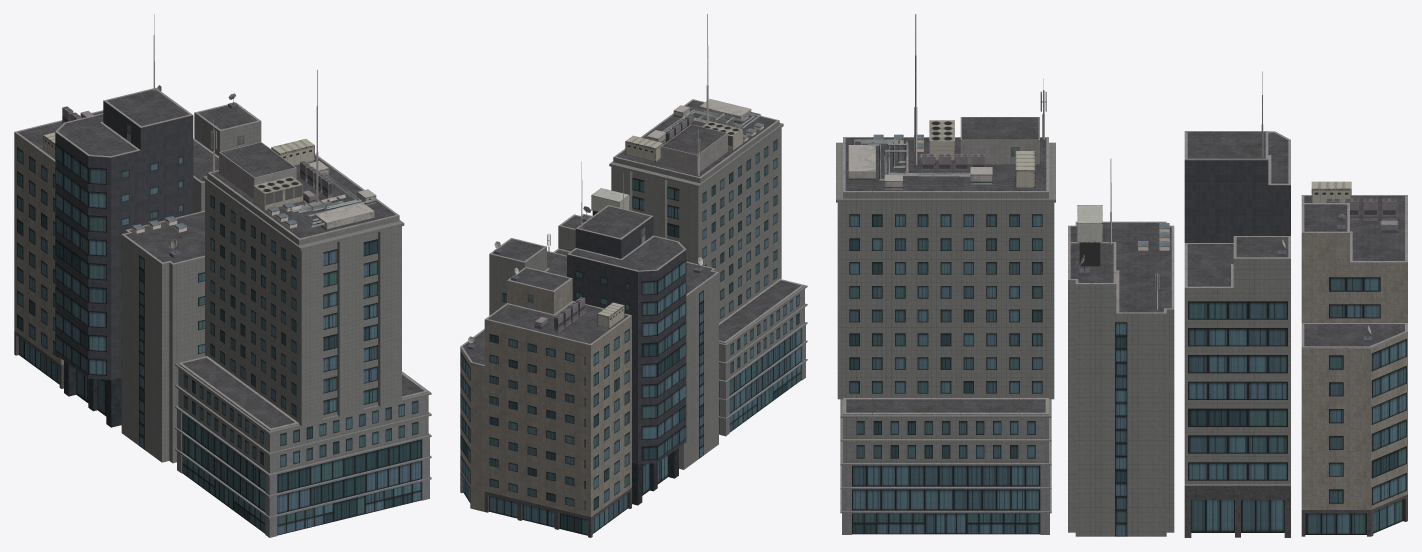
File: buildSetD.FBX
The picture shows the model from 3 angles, left to right: view 1: azimuth 30°, elevation 25°; view 2: azimuth 150°, elevation 25°; view 3: azimuth 270°, elevation 25°; orthographic projection. The views are drawn at different scales.
Visible parts, largest first — view 1: buildSetD; view 2: buildSetD; view 3: buildSetD.
Part boxes in pixels (<box>): buildSetD: <box>14,14,431,537</box>; buildSetD: <box>460,14,807,537</box>; buildSetD: <box>836,14,1407,537</box>.
Size of what is drawn, in the model's own units: 997 by 2313 by 2129.
